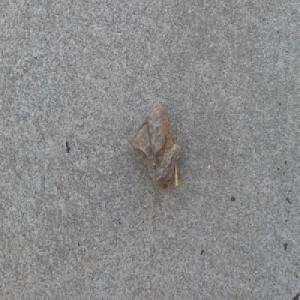Rock: (128, 101, 181, 192)
